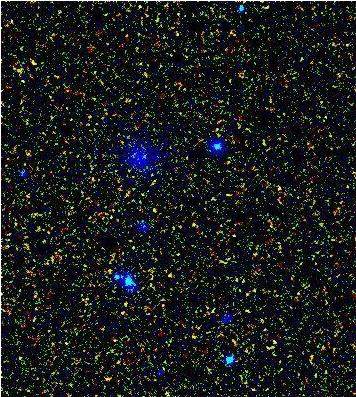star: (181, 206, 211, 236)
